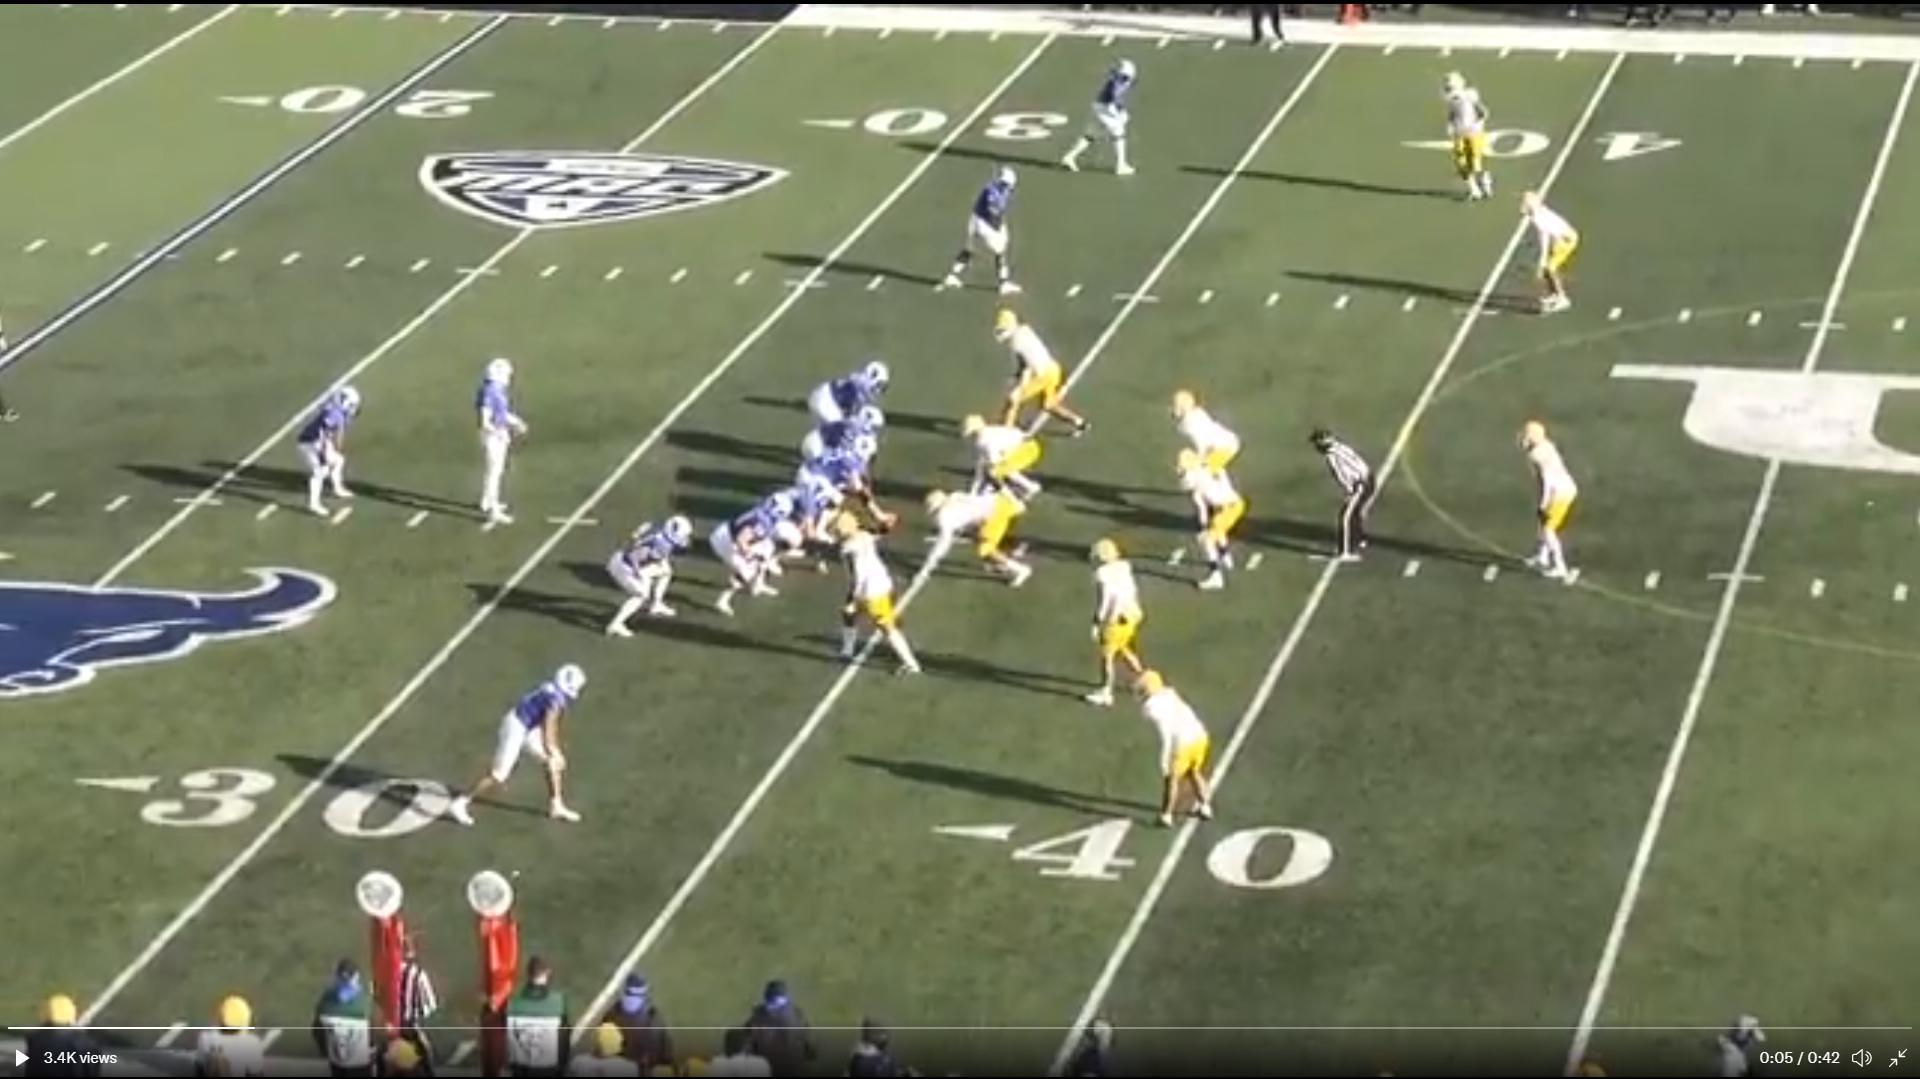center: (829, 430, 905, 524)
db: (1135, 670, 1212, 820), (1528, 423, 1588, 584), (1527, 189, 1590, 299), (1443, 78, 1491, 193)
lb: (1089, 538, 1155, 699), (1187, 446, 1246, 586), (471, 869, 524, 1004), (1183, 397, 1242, 464), (847, 1037, 905, 1078)
qb: (477, 357, 512, 508)
skill: (493, 667, 593, 810), (305, 379, 359, 507), (620, 518, 684, 624), (960, 168, 1015, 289), (1101, 57, 1139, 168)
